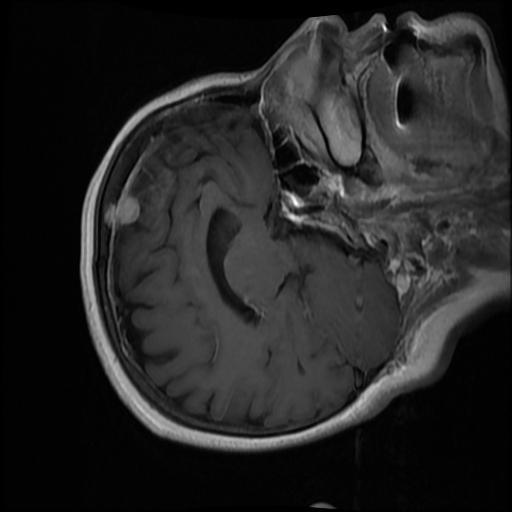meningioma: (104, 195, 138, 226)
